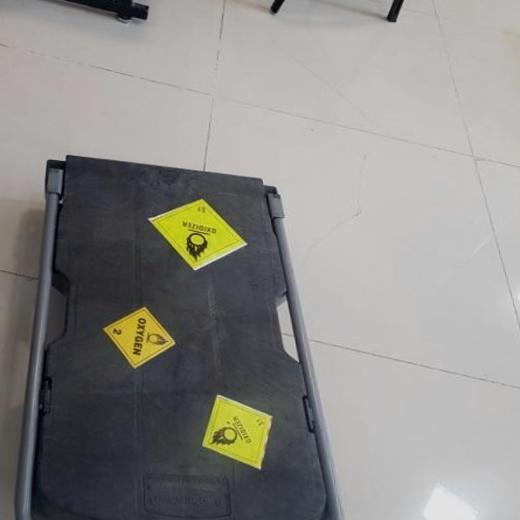oxidizer: (146, 197, 248, 271), (199, 394, 274, 470), (102, 305, 176, 370)
